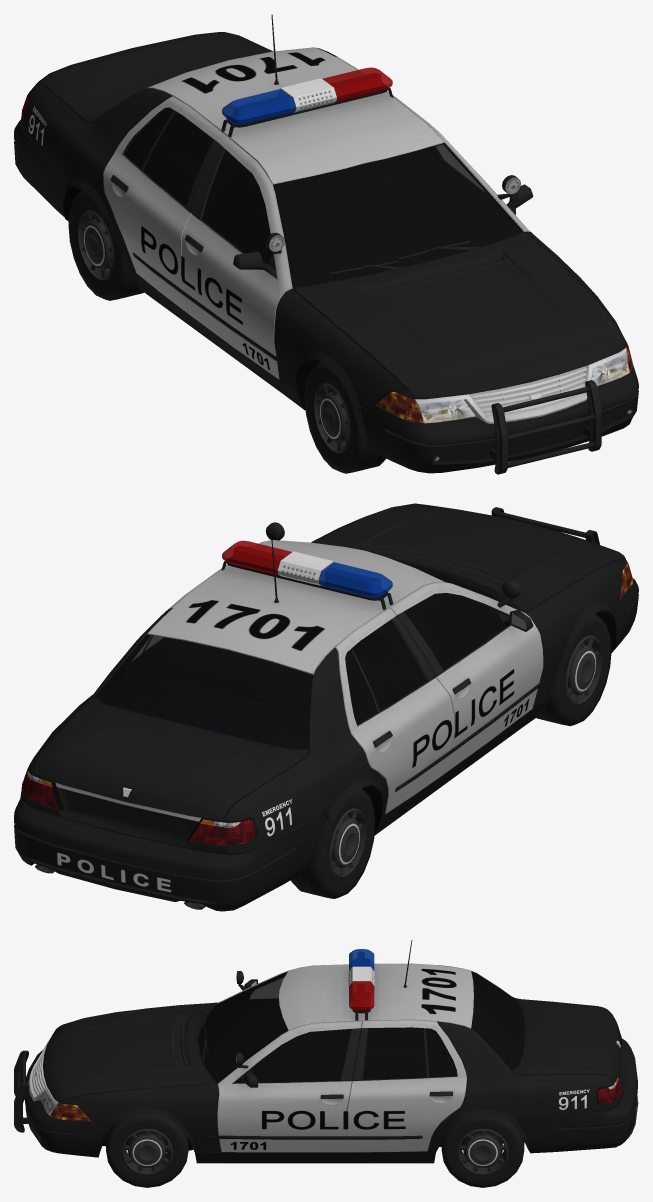
Rendered from veh-police_sedan.glb.
3 views of the same model, one above another, from view 1: azimuth 30°, elevation 25°; view 2: azimuth 150°, elevation 25°; view 3: azimuth 270°, elevation 25° (orthographic). The views are drawn at different scales.
Visible parts, largest first — view 1: police_sedan_police_sedan_0, police_sedan_police_glass_0 (×2), police_sedan_optics_tex_0, police_sedan_police_decal_0; view 2: police_sedan_police_sedan_0, police_sedan_police_glass_0 (×2), police_sedan_police_decal_0, police_sedan_optics_tex_0; view 3: police_sedan_police_sedan_0, police_sedan_police_glass_0 (×2), police_sedan_police_decal_0, police_sedan_optics_tex_0.
Boxes of the visible parts, x1,y1,x2,y2 form: police_sedan_police_sedan_0: (14,14,638,474); police_sedan_police_glass_0 (×2): (124,67,523,288); police_sedan_optics_tex_0: (21,95,633,462); police_sedan_police_decal_0: (28,52,325,370); police_sedan_police_sedan_0: (14,503,638,911); police_sedan_police_glass_0 (×2): (95,540,515,749); police_sedan_police_decal_0: (57,600,529,892); police_sedan_optics_tex_0: (21,562,633,845); police_sedan_police_sedan_0: (14,940,638,1187); police_sedan_police_glass_0 (×2): (198,949,525,1083); police_sedan_police_decal_0: (230,969,638,1149); police_sedan_optics_tex_0: (39,973,622,1139).
Size of the model in its own units: 2 by 1.88 by 5.17.
Materials: 5 (5 with a texture image).
